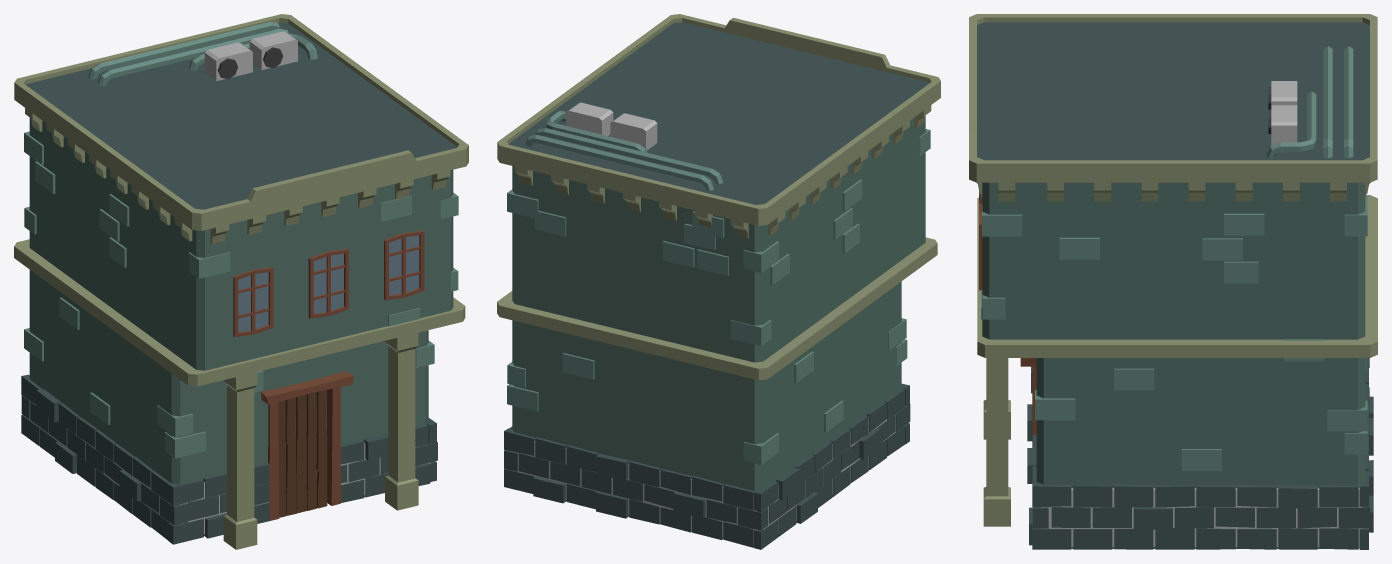
The model's file is 2Story_Columns_Mat.gltf.
3 renders of one model, left to right at view 1: azimuth 30°, elevation 25°; view 2: azimuth 150°, elevation 25°; view 3: azimuth 270°, elevation 25°, orthographic. The views are drawn at different scales.
Visible parts, largest first — view 1: o 2Story_Columns_Mat_Cube.035; view 2: o 2Story_Columns_Mat_Cube.035; view 3: o 2Story_Columns_Mat_Cube.035.
Boxes of the visible parts, x1,y1,x2,y2 form: o 2Story_Columns_Mat_Cube.035: (14, 14, 468, 549); o 2Story_Columns_Mat_Cube.035: (497, 14, 940, 549); o 2Story_Columns_Mat_Cube.035: (969, 14, 1377, 549).
Size of the model in its own units: 2.16 by 2.77 by 2.49.
